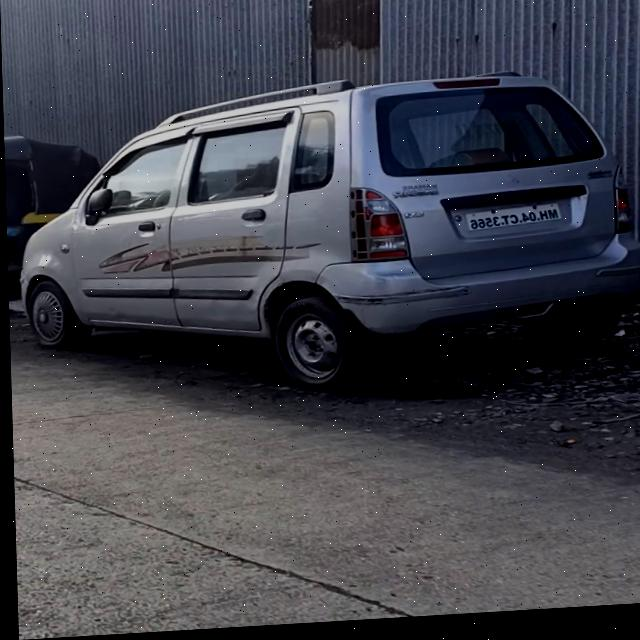plate: (463, 208, 563, 238)
